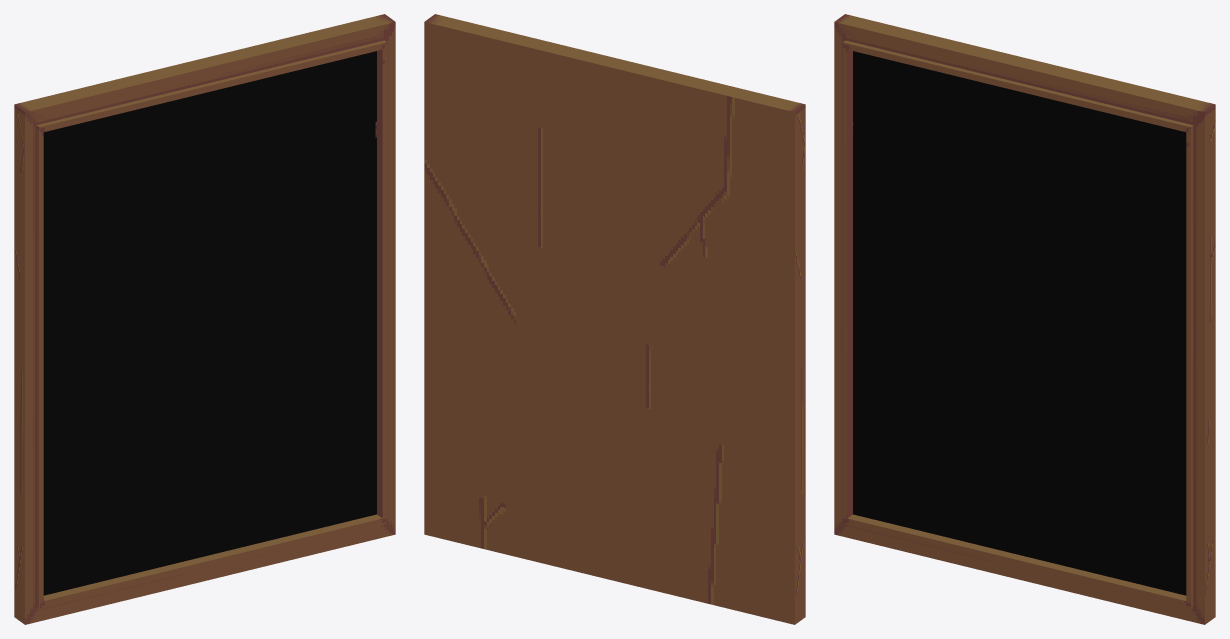
Rendered from painting.glb.
3 views of the same model, side by side, from view 1: azimuth 30°, elevation 25°; view 2: azimuth 150°, elevation 25°; view 3: azimuth 330°, elevation 25° (orthographic).
Parts seen in each view (by area): view 1: Painting; view 2: Painting; view 3: Painting.
Part boxes in pixels (left/top/right/bottom): Painting: left=14, top=14, right=395, bottom=624; Painting: left=424, top=14, right=805, bottom=624; Painting: left=834, top=14, right=1215, bottom=624.
Size of the model in its own units: 0.7587 by 1 by 0.048.
2 materials, 2 textured.
